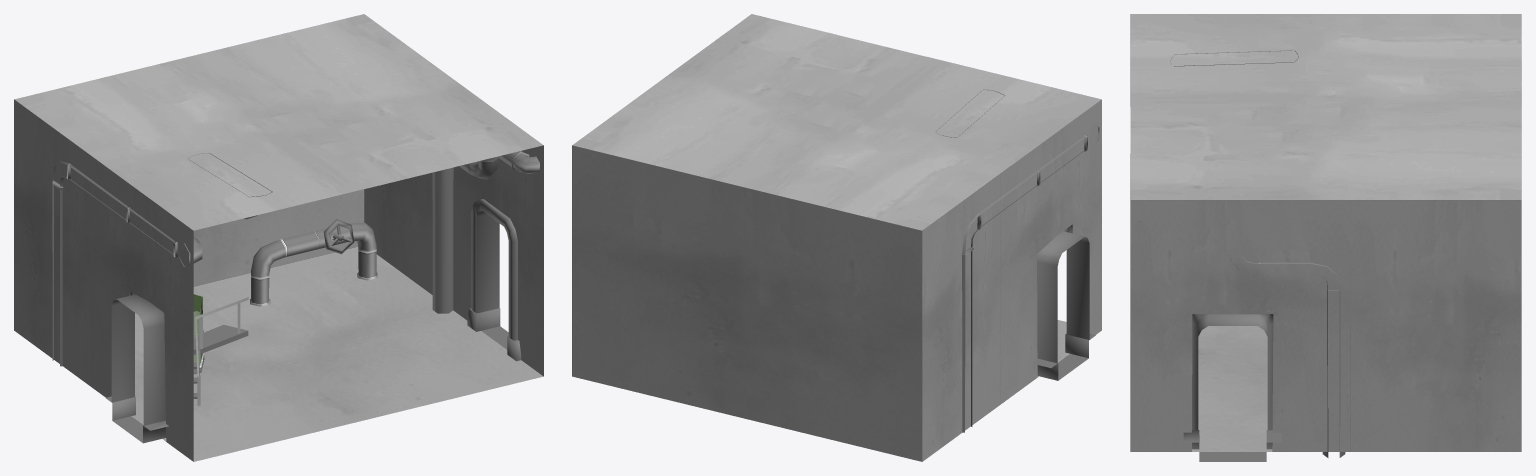
The model's file is MHS_Water_L1_R1_optimized.fbx.
3 renders of one model, left to right at view 1: azimuth 30°, elevation 25°; view 2: azimuth 150°, elevation 25°; view 3: azimuth 270°, elevation 25°, orthographic. The views are drawn at different scales.
Visible parts, largest first — view 1: lightmap1, MHS_Water_L1_door; view 2: lightmap1, MHS_Water_L1_door; view 3: lightmap1, MHS_Water_L1_door.
Part boxes in pixels (x1=…): lightmap1: x1=14, y1=14, x2=543, y2=461; MHS_Water_L1_door: x1=111, y1=210, x2=508, y2=443; lightmap1: x1=572, y1=14, x2=1101, y2=461; MHS_Water_L1_door: x1=1037, y1=231, x2=1089, y2=380; lightmap1: x1=1130, y1=14, x2=1521, y2=457; MHS_Water_L1_door: x1=1198, y1=314, x2=1267, y2=461.
Size of the model in its own units: 10.3 by 6.01 by 8.26.
